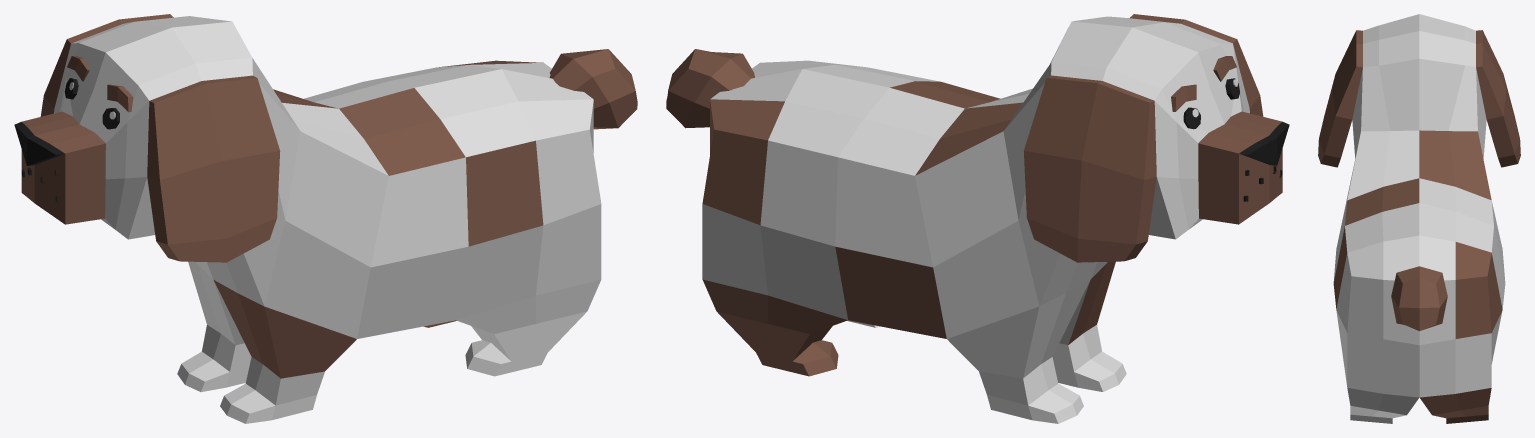
File: dog.glb
3 views of the same model, side by side, from view 1: azimuth 30°, elevation 25°; view 2: azimuth 150°, elevation 25°; view 3: azimuth 270°, elevation 25° (orthographic). The views are drawn at different scales.
Parts seen in each view (by area): view 1: Cube_Cube.022; view 2: Cube_Cube.022; view 3: Cube_Cube.022.
Boxes of the visible parts, left/top/right/bottom form: Cube_Cube.022: left=14, top=14, right=637, bottom=423; Cube_Cube.022: left=666, top=14, right=1289, bottom=423; Cube_Cube.022: left=1318, top=14, right=1520, bottom=423.
Size of the model in its own units: 321 by 191 by 127.
